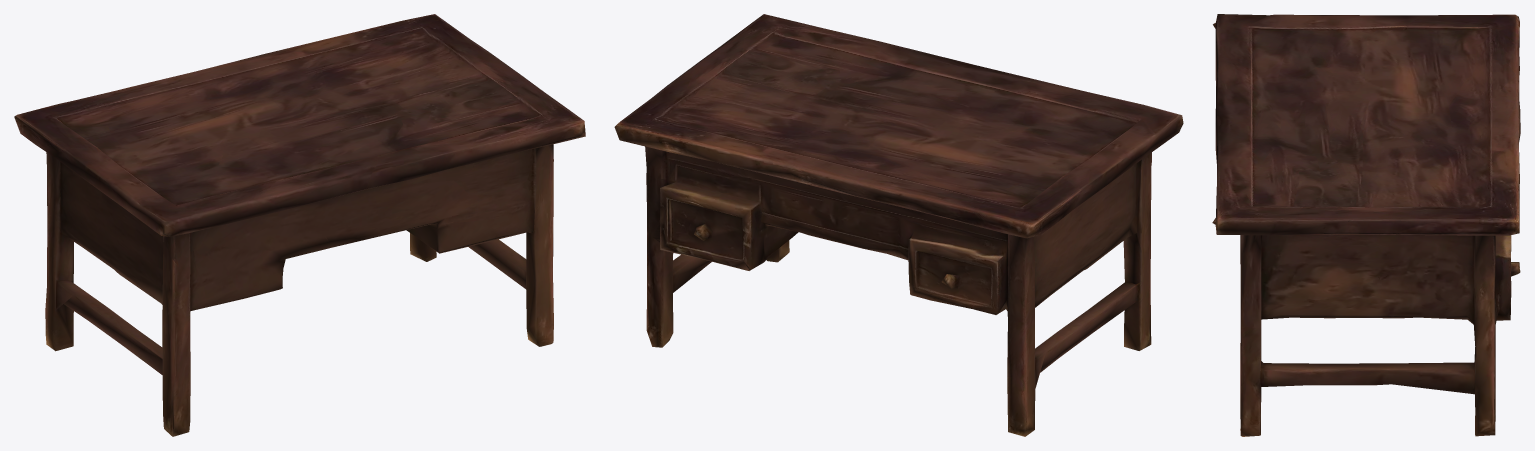
The model's file is writing-desk.glb.
3 renders of one model, left to right at view 1: azimuth 30°, elevation 25°; view 2: azimuth 150°, elevation 25°; view 3: azimuth 270°, elevation 25°, orthographic.
Visible parts, largest first — view 1: tripo_node_2d5625f7-f2bd-4ac8-b4c5-da2e336944ee; view 2: tripo_node_2d5625f7-f2bd-4ac8-b4c5-da2e336944ee; view 3: tripo_node_2d5625f7-f2bd-4ac8-b4c5-da2e336944ee.
Boxes of the visible parts, <box> form: tripo_node_2d5625f7-f2bd-4ac8-b4c5-da2e336944ee: <box>14,14,585,436</box>; tripo_node_2d5625f7-f2bd-4ac8-b4c5-da2e336944ee: <box>614,14,1183,436</box>; tripo_node_2d5625f7-f2bd-4ac8-b4c5-da2e336944ee: <box>1212,14,1520,436</box>.
Bounding box in the file's own units: 1 × 0.5192 × 0.6319.
1 material, 1 textured.
